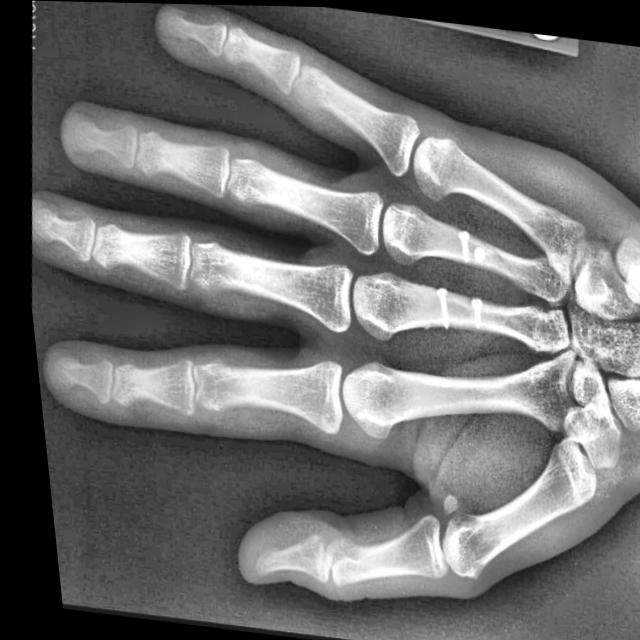fracture: (446, 223, 486, 265), (460, 289, 483, 331), (425, 284, 446, 329)
